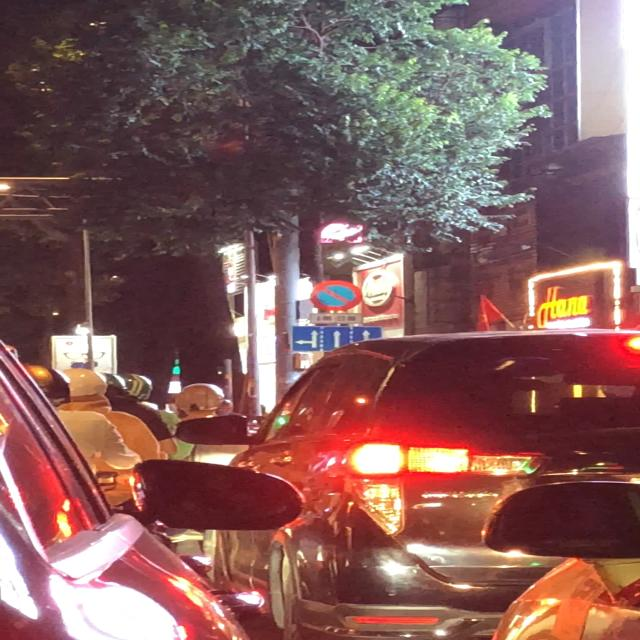Bien bao cam do xe: (308, 280, 364, 312)
